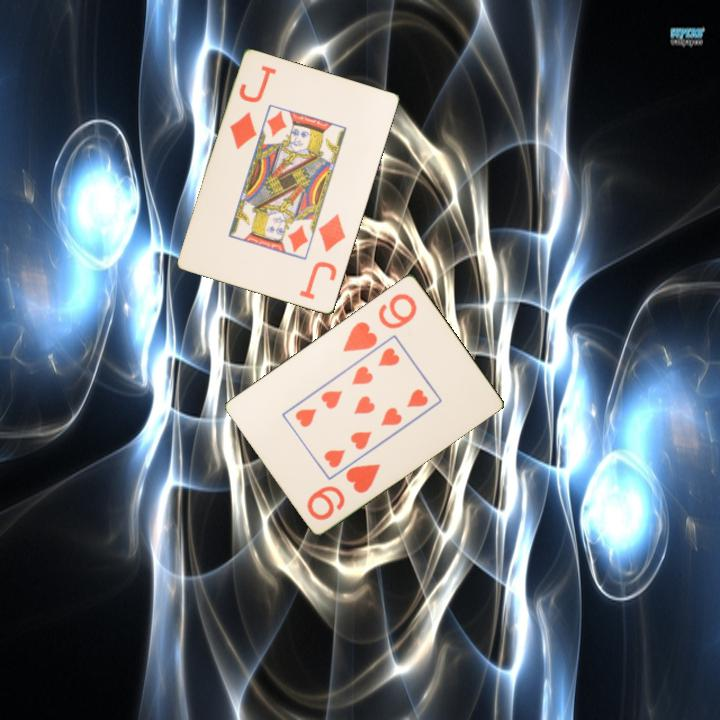9h: (339, 289, 420, 355), (303, 460, 383, 523)
Jd: (296, 210, 349, 303), (226, 62, 280, 153)
